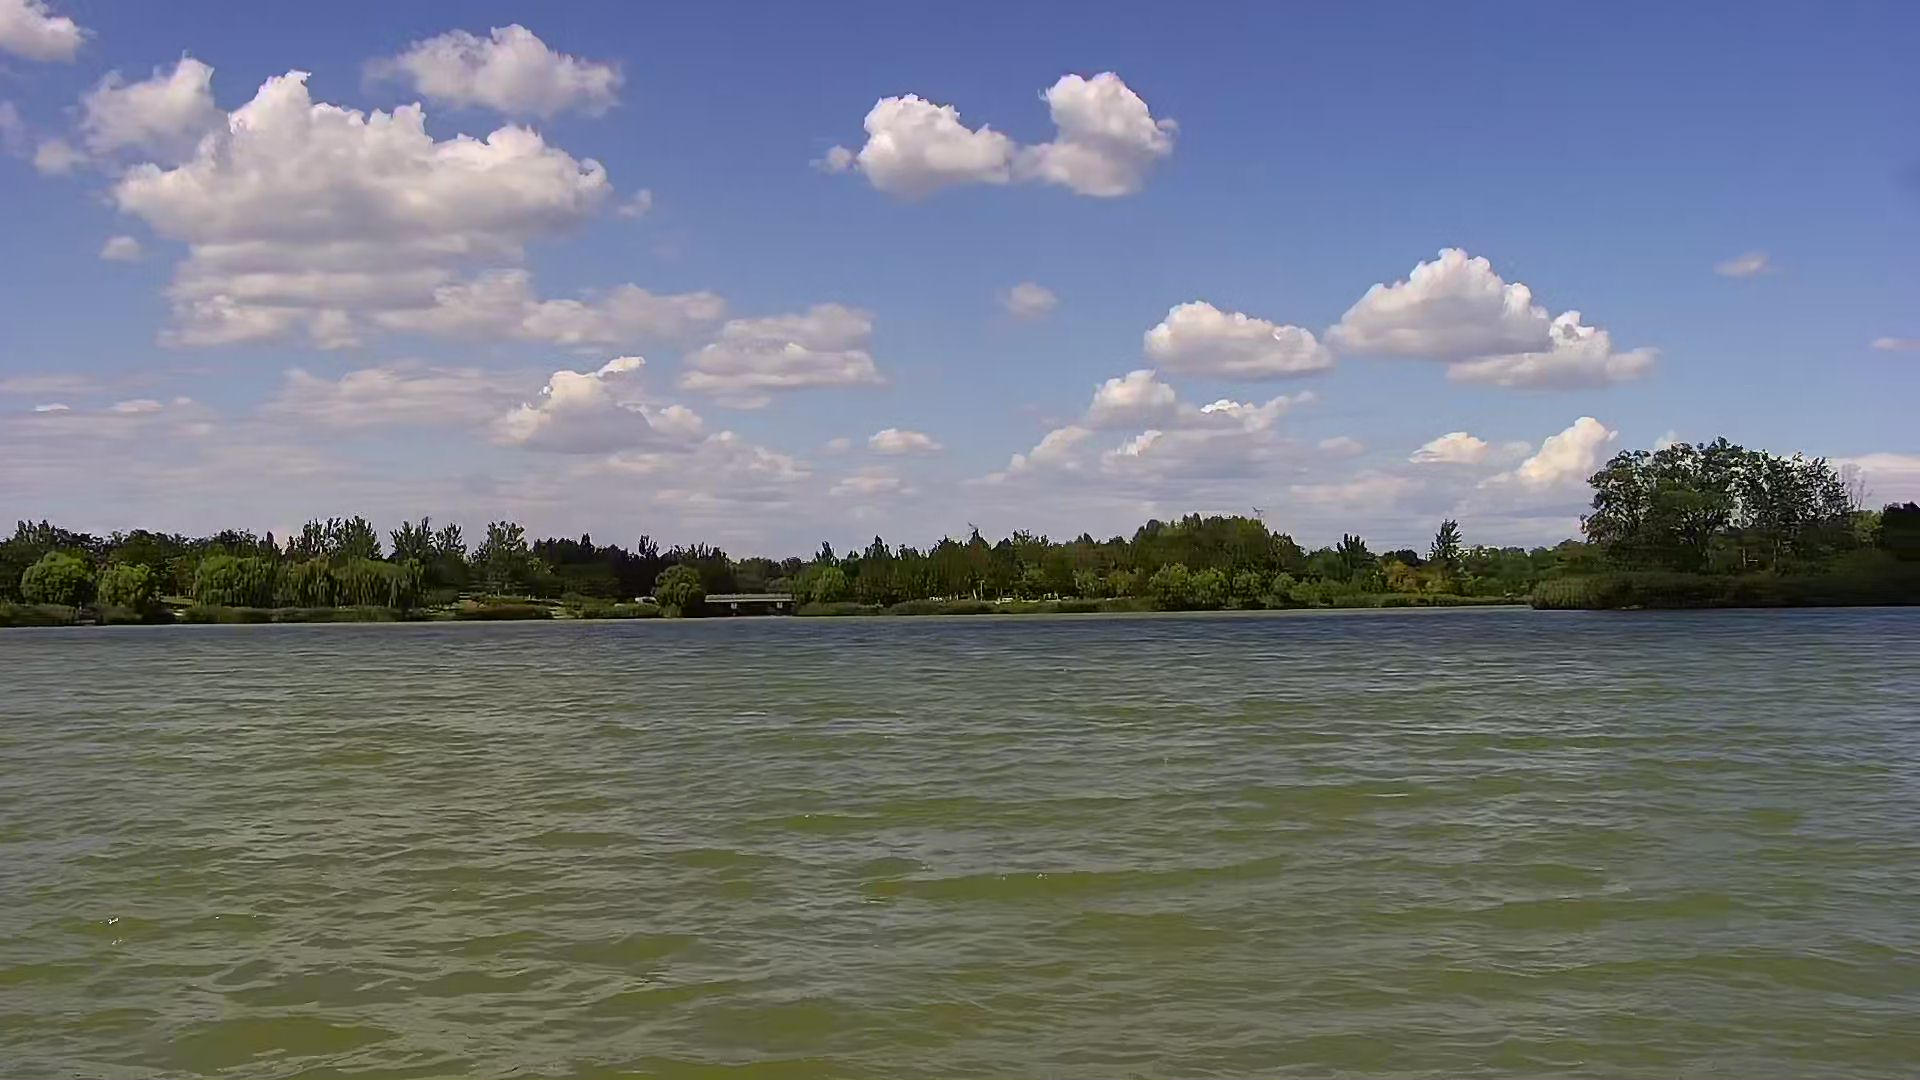bridge: (705, 588, 800, 622)
